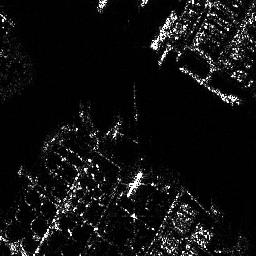ship: (148, 8, 177, 52), (126, 171, 143, 200)
